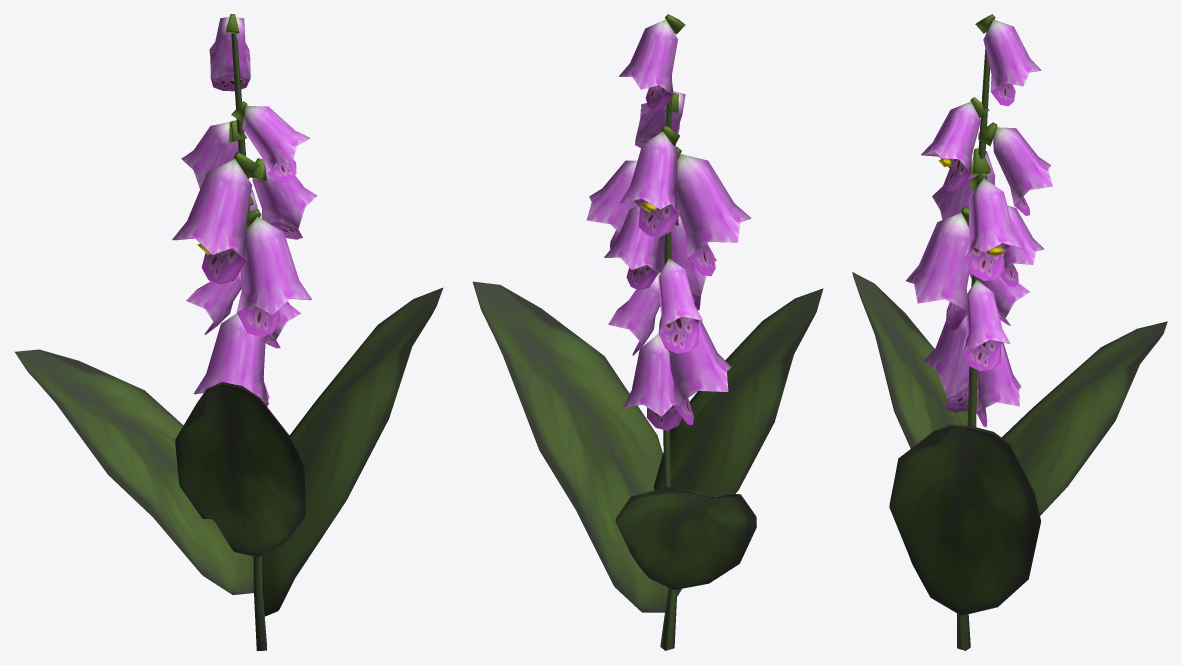
The model's file is WildFlower_Purpurea.fbx.
3 renders of one model, left to right at view 1: azimuth 30°, elevation 25°; view 2: azimuth 150°, elevation 25°; view 3: azimuth 270°, elevation 25°, orthographic. The views are drawn at different scales.
Parts seen in each view (by area): view 1: WildFlower_Purpurea; view 2: WildFlower_Purpurea; view 3: WildFlower_Purpurea.
Part boxes in pixels (<box>): WildFlower_Purpurea: <box>15,14,442,650</box>; WildFlower_Purpurea: <box>472,14,823,650</box>; WildFlower_Purpurea: <box>852,14,1167,650</box>.
Bounding box in the file's own units: 39.41 × 71.25 × 32.56.
